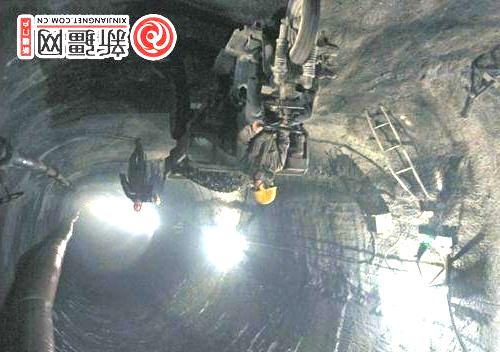helmet: (251, 171, 278, 205), (133, 199, 142, 212)
